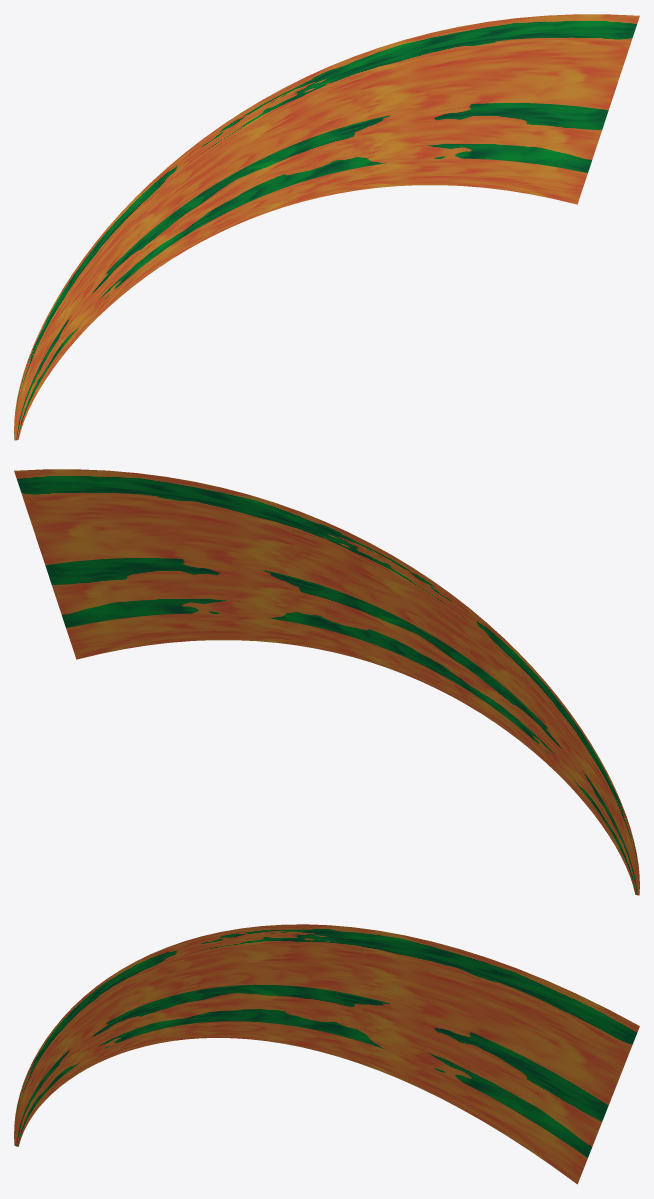
File: p_trashbot_start_sprinkler03_pose0.fbx
3 renders of one model, top to bottom at view 1: azimuth 30°, elevation 25°; view 2: azimuth 150°, elevation 25°; view 3: azimuth 330°, elevation 25°, orthographic.
Visible parts, largest first — view 1: p_sprinkle_start_plane03_pose0; view 2: p_sprinkle_start_plane03_pose0; view 3: p_sprinkle_start_plane03_pose0.
Part boxes in pixels (x1,y1,x2,y2): p_sprinkle_start_plane03_pose0: (14,14,639,440); p_sprinkle_start_plane03_pose0: (14,469,639,895); p_sprinkle_start_plane03_pose0: (14,924,639,1184).
Size of the model in its own units: 51.85 by 24.25 by 6.89e-06.
